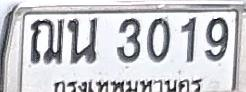0: (146, 17, 170, 62)
1: (180, 16, 196, 62)
3: (116, 18, 140, 62)
9: (205, 17, 228, 61)
A12: (30, 18, 64, 64)
A25: (67, 18, 98, 64)
BKK: (53, 78, 203, 92)
